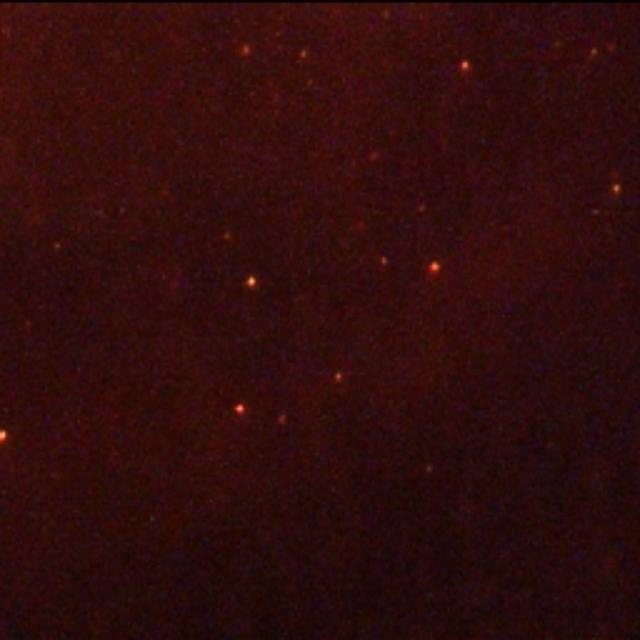Fragment: (0, 427, 12, 445), (460, 60, 474, 74), (232, 403, 248, 415)
